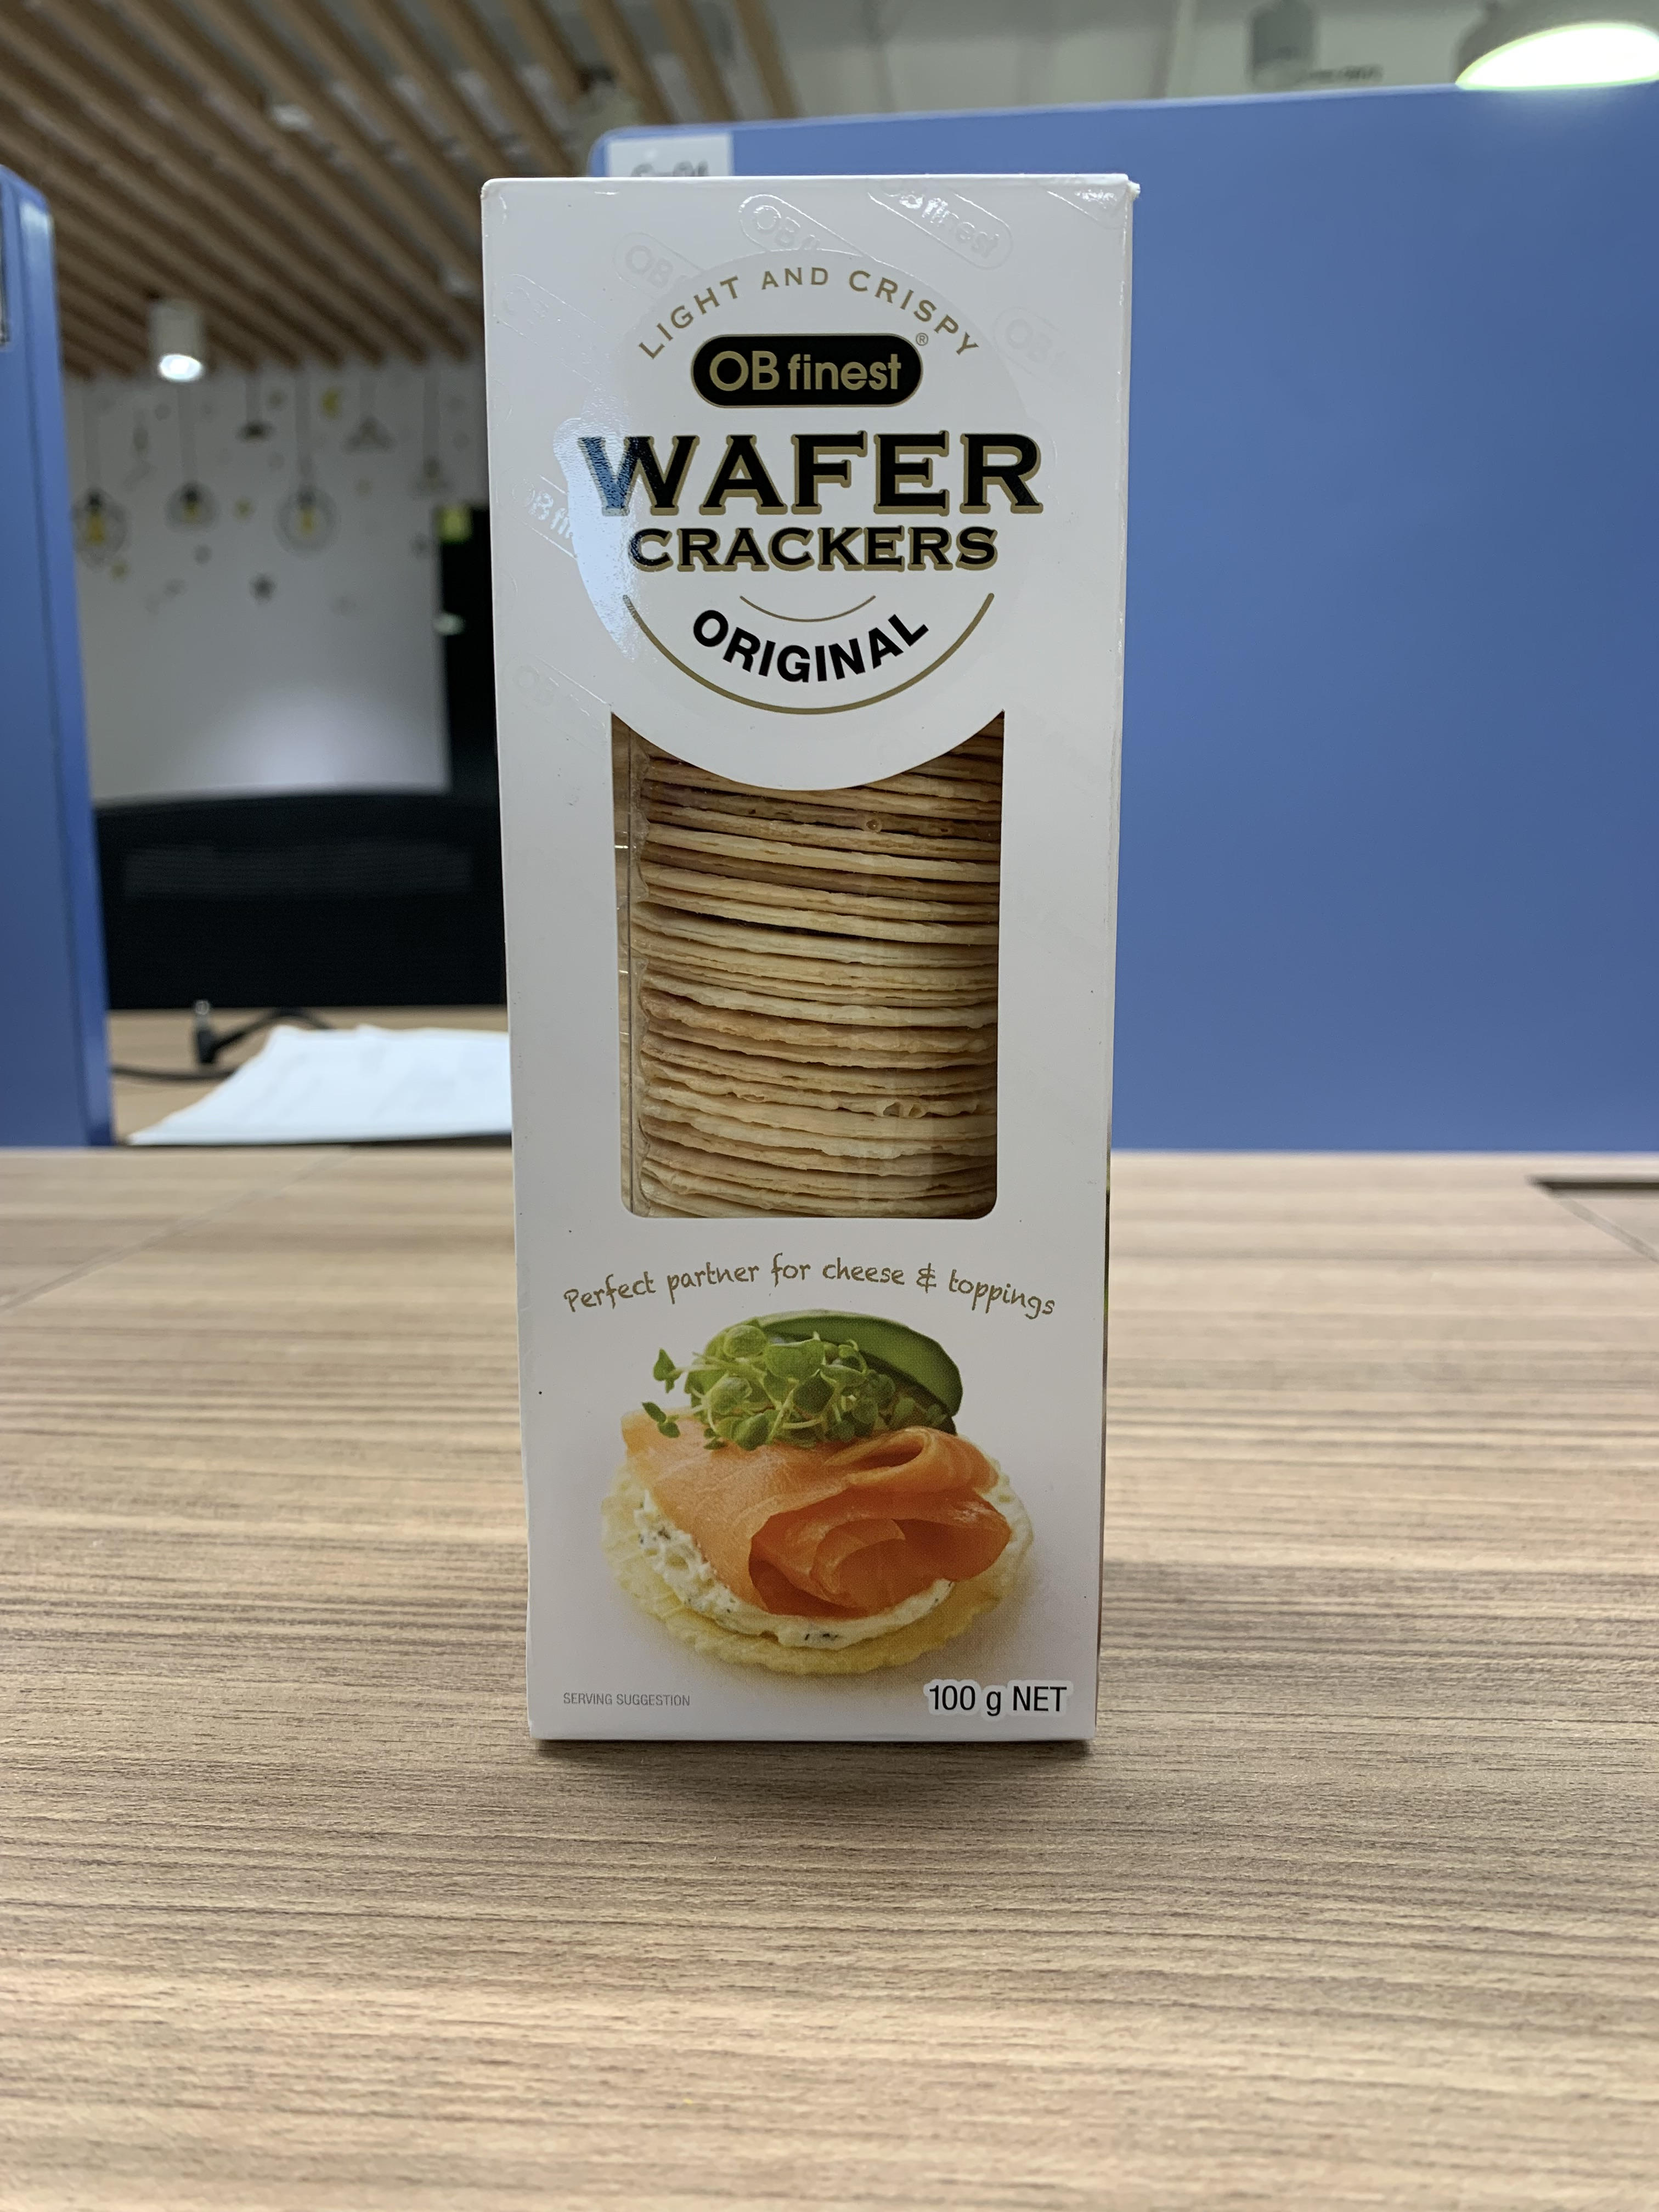crackers_100g-199g: (519, 200, 1089, 1737)
